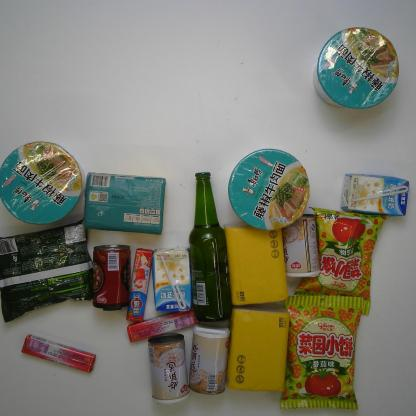Alcohol: (189, 172, 229, 323)
Candy: (21, 334, 96, 374), (127, 307, 198, 342), (126, 247, 153, 323)
Canned Food: (146, 332, 190, 403), (188, 324, 231, 396), (93, 244, 132, 312), (282, 215, 320, 279)
Instant Noodles: (0, 218, 93, 322), (314, 27, 399, 109), (0, 142, 84, 224), (229, 149, 310, 230)
Milk: (340, 173, 410, 216), (152, 247, 191, 312)
Puffed Food: (294, 207, 390, 316), (279, 295, 364, 411)
Tissue: (224, 306, 290, 394), (224, 221, 288, 306), (82, 172, 166, 235)
